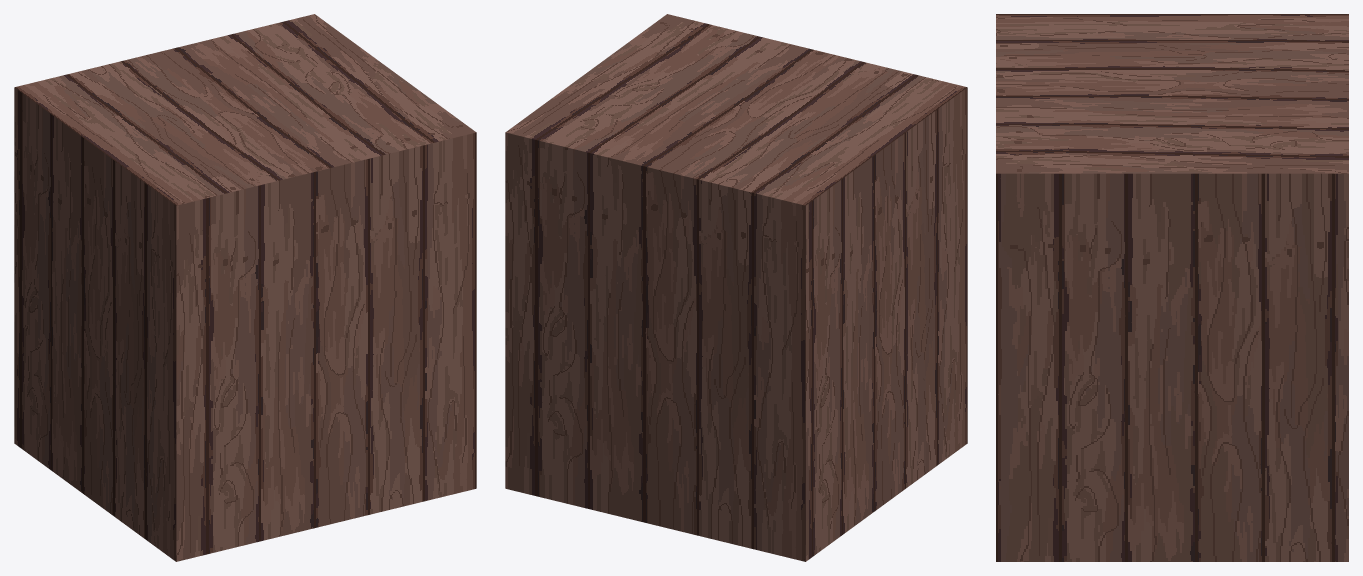
3 views of the same model, side by side, from view 1: azimuth 30°, elevation 25°; view 2: azimuth 150°, elevation 25°; view 3: azimuth 270°, elevation 25° (orthographic). The views are drawn at different scales.
Visible parts, largest first — view 1: cube; view 2: cube; view 3: cube.
Boxes of the visible parts, x1=… form: cube: x1=14, y1=14, x2=476, y2=561; cube: x1=505, y1=14, x2=967, y2=561; cube: x1=996, y1=14, x2=1348, y2=561.
Size of the model in its own units: 0.9375 by 1.06 by 0.875.
1 material, 1 textured.
